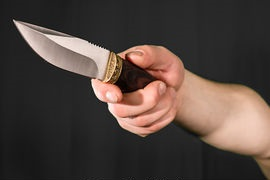knife: (9, 15, 170, 137)
